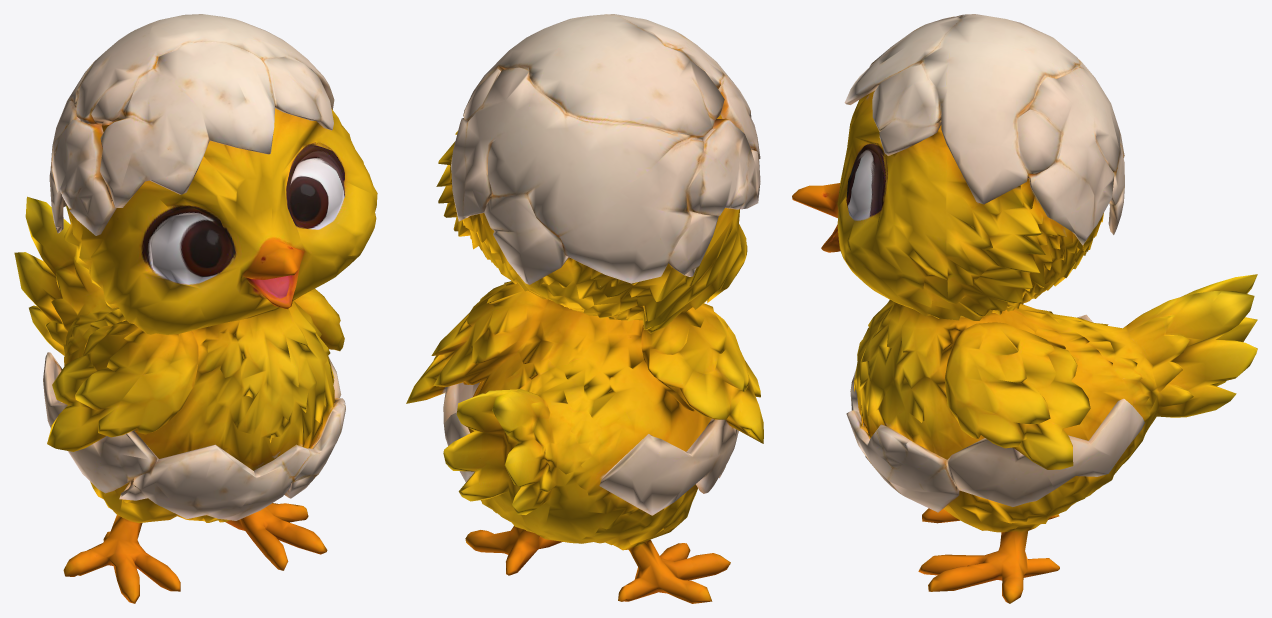
The model's file is pintinho_10k.glb.
3 renders of one model, left to right at view 1: azimuth 30°, elevation 25°; view 2: azimuth 150°, elevation 25°; view 3: azimuth 270°, elevation 25°, orthographic. The views are drawn at different scales.
Visible parts, largest first — view 1: tripo_node_0a89dce4-0242-4f5f-b5d5-a95ec7feaca0; view 2: tripo_node_0a89dce4-0242-4f5f-b5d5-a95ec7feaca0; view 3: tripo_node_0a89dce4-0242-4f5f-b5d5-a95ec7feaca0.
Part boxes in pixels (bbox=[...]): tripo_node_0a89dce4-0242-4f5f-b5d5-a95ec7feaca0: bbox=[14, 14, 377, 603]; tripo_node_0a89dce4-0242-4f5f-b5d5-a95ec7feaca0: bbox=[406, 14, 763, 603]; tripo_node_0a89dce4-0242-4f5f-b5d5-a95ec7feaca0: bbox=[792, 14, 1257, 603].
Bounding box in the file's own units: 0.5887 × 0.9792 × 0.7938.
1 material, 1 textured.
